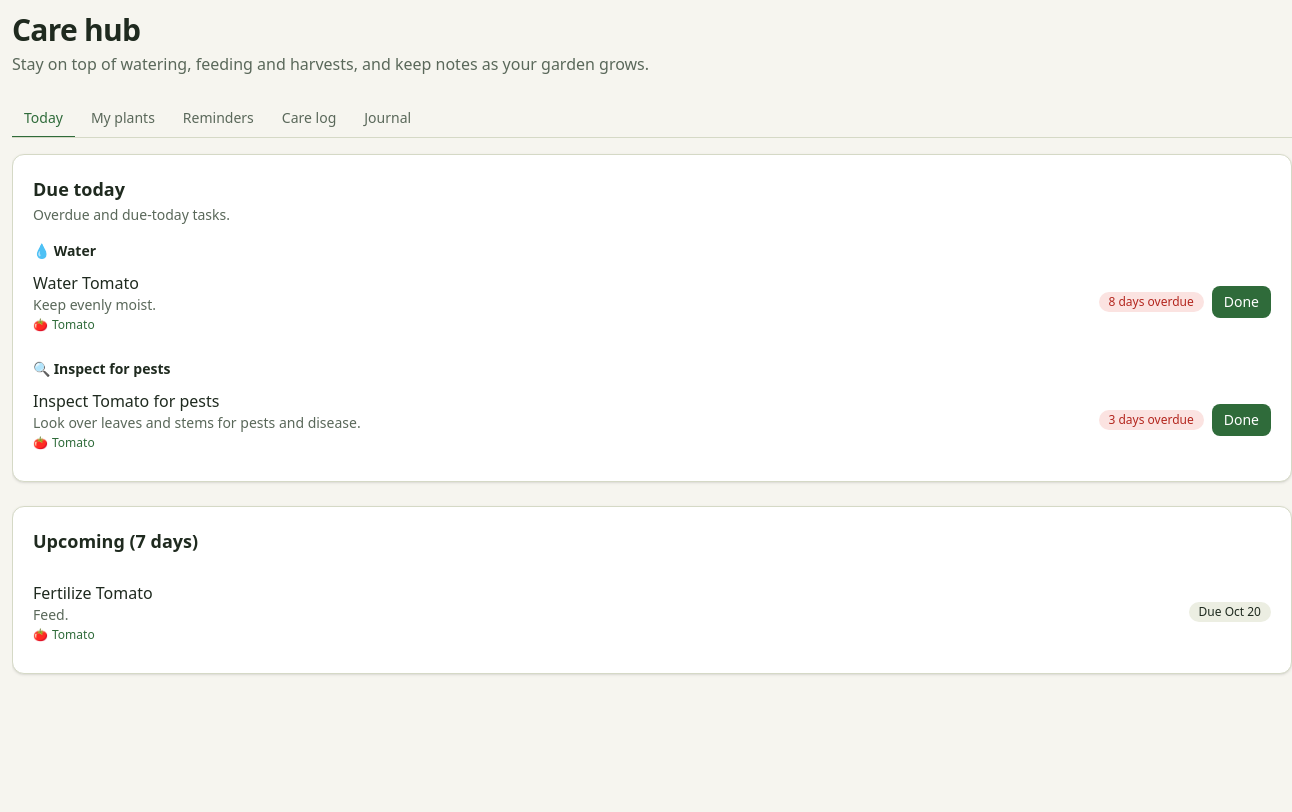
Test: CarePage › My plants › waters containers more often
The width and height of the screenshot is (1292, 812).
Click the tab "My plants". click: x=123, y=119
box: [79, 100, 167, 138]
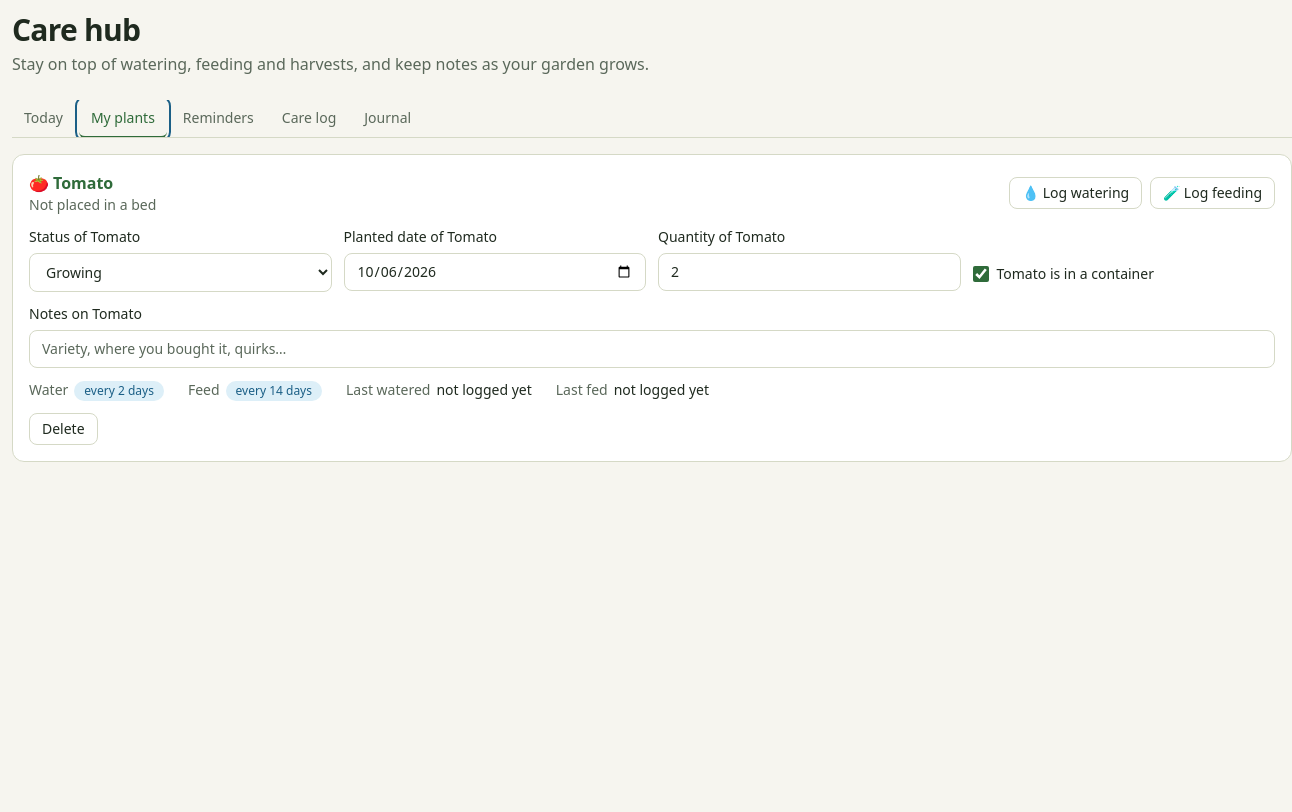
Expected: the text "every 2 days" is shown, [74, 381, 164, 401]
